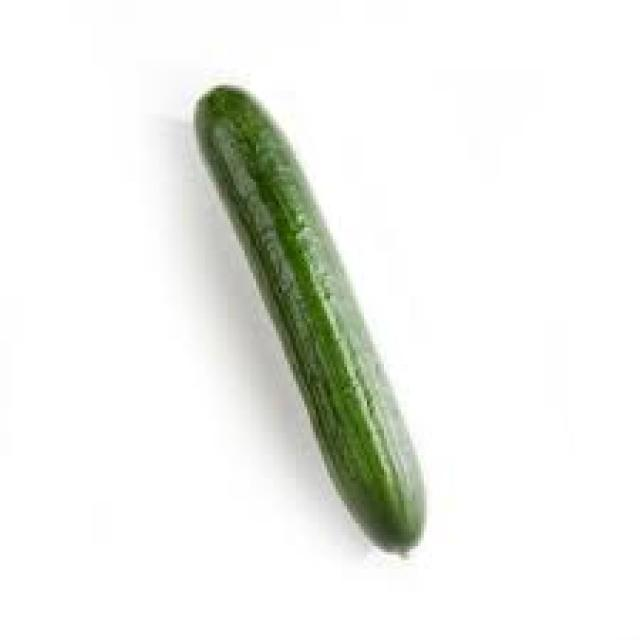cucumber: (190, 80, 427, 554)
